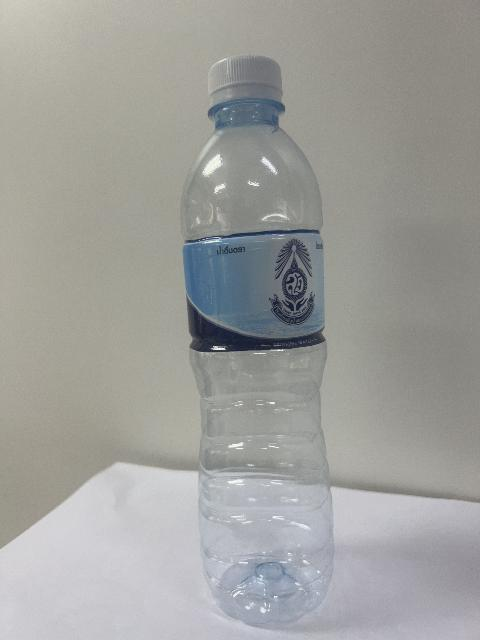bottle: (182, 56, 333, 623)
